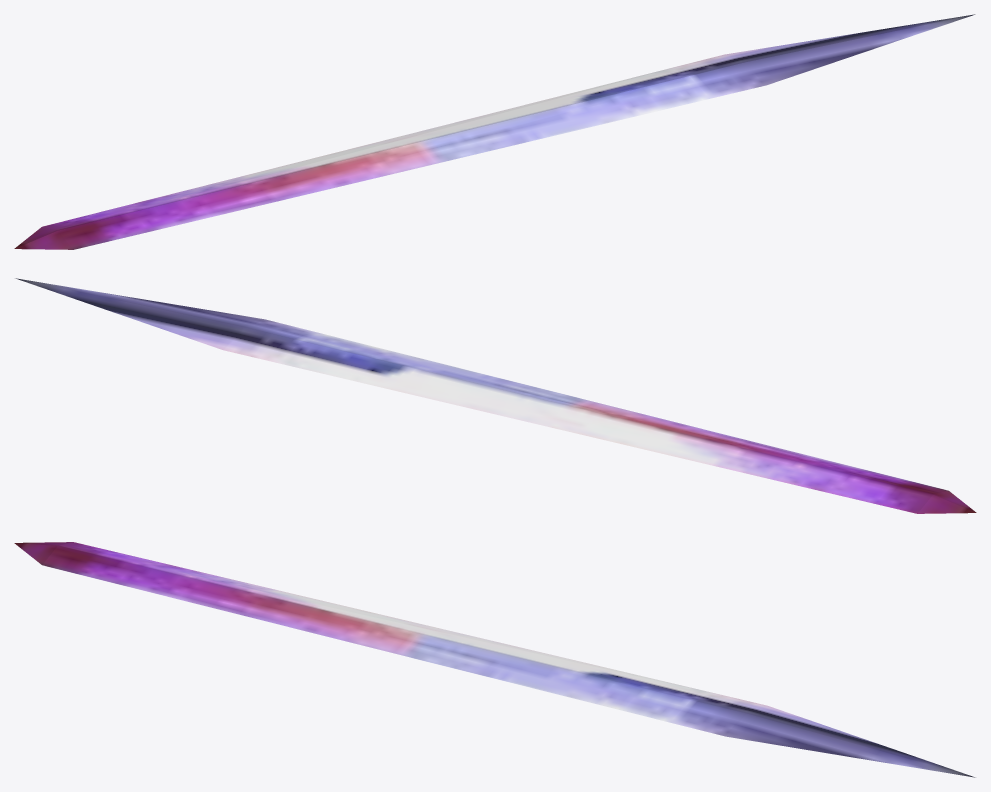
The model's file is UFORMOWANE_MAGICZNE_OSTRZE.glb.
The picture shows the model from 3 angles, top to bottom: view 1: azimuth 30°, elevation 25°; view 2: azimuth 150°, elevation 25°; view 3: azimuth 330°, elevation 25°; orthographic projection.
Visible parts, largest first — view 1: UFORMOWANE_MAGICZNE_OSTRZE; view 2: UFORMOWANE_MAGICZNE_OSTRZE; view 3: UFORMOWANE_MAGICZNE_OSTRZE.
Boxes of the visible parts, <box> form: UFORMOWANE_MAGICZNE_OSTRZE: <box>14,14,975,249</box>; UFORMOWANE_MAGICZNE_OSTRZE: <box>15,278,976,513</box>; UFORMOWANE_MAGICZNE_OSTRZE: <box>14,542,975,777</box>.
Size of the model in its own units: 1.05 by 0.016 by 0.08.
1 material, 1 textured.
